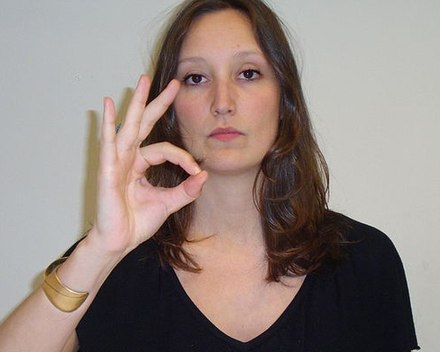oksign: (96, 87, 205, 247)
